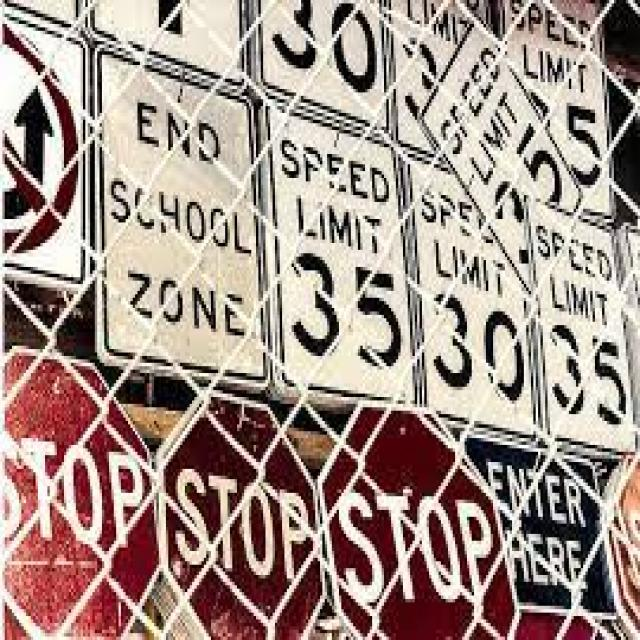speedLimit30: (402, 143, 537, 434)
speedLimit35: (259, 111, 409, 402), (531, 180, 619, 453)
